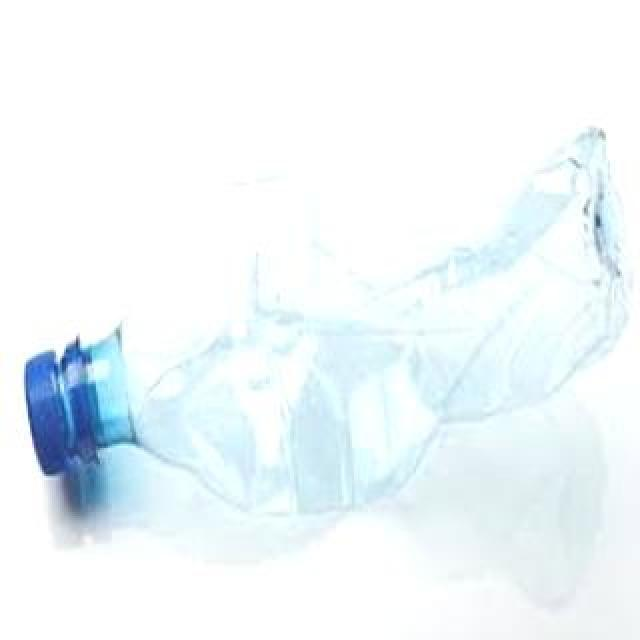Pet_Bottle: (21, 118, 629, 550)
